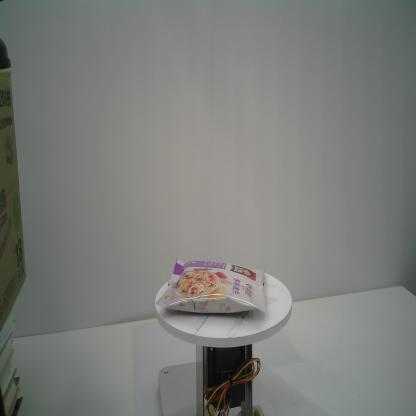Instant Drink: (155, 257, 266, 314)
